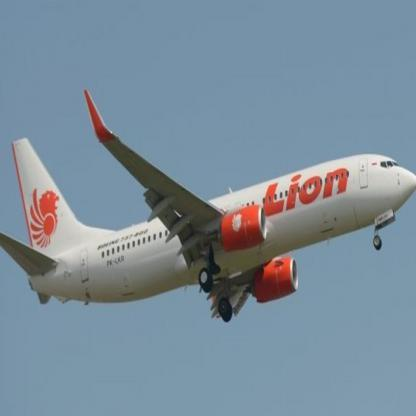CIV_Plane: (0, 85, 415, 327)
